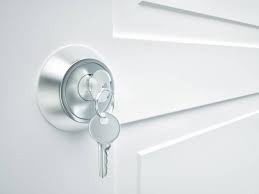key: (88, 111, 121, 183)
